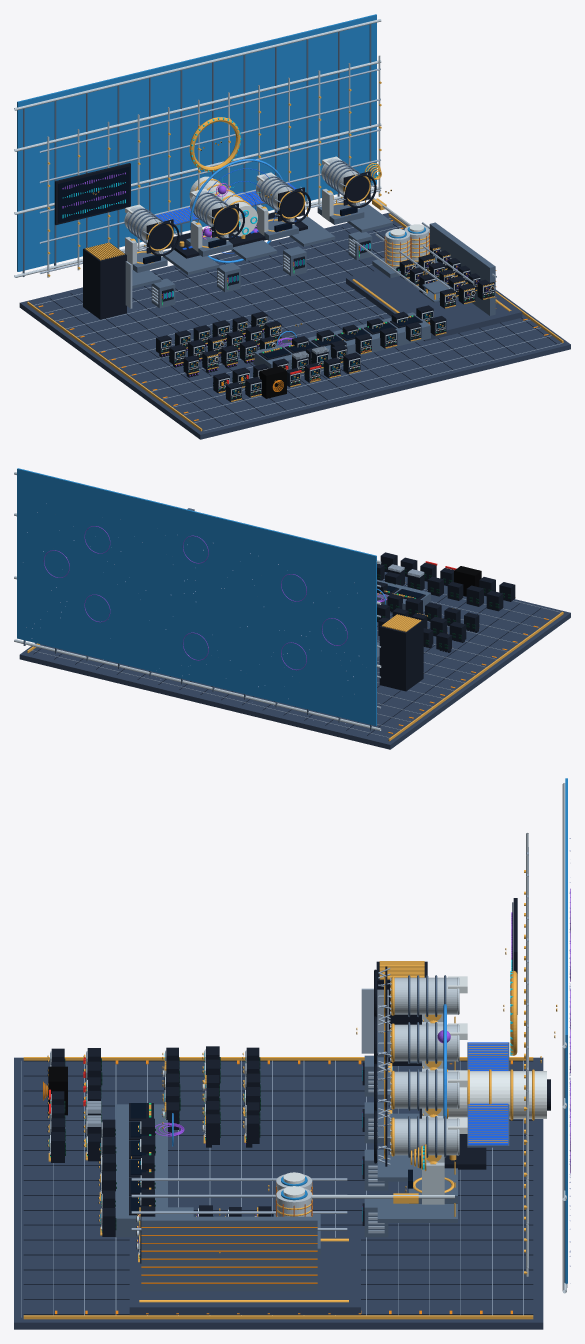
The model's file is Level91_Complete_ArtKit_Showcase.fbx.
The picture shows the model from 3 angles, top to bottom: view 1: azimuth 30°, elevation 25°; view 2: azimuth 150°, elevation 25°; view 3: azimuth 270°, elevation 25°; orthographic projection. The views are drawn at different scales.
Parts seen in each view (by area): view 1: L91_PanoramicDeepSpaceObservationDome, L91_CosmicNavigationQualificationDeck, L91_ClockTimingLaboratoryBase, L91_PhotonSafetyShieldEnclosure, L91_XRayObservatoryServicePlatform, L91_StellarSceneryStructuralFrame_Part_0001, L91_StellarSceneryStructuralFrame_Part_0000, L91_PulsarPhaseReferenceDisplay_Part_0001, L91_NavigationCommandWorkstation, L91_DeepSpaceMissionSafetyBarrier, L91_DetectorSunshadeArray, L91_PrimaryAtomicClockReference (+24 smaller); view 2: L91_PanoramicDeepSpaceObservationDome, L91_CosmicNavigationQualificationDeck, L91_PhotonSafetyShieldEnclosure, L91_DeepSpaceStarfieldVault, L91_NavigationCommandWorkstation, L91_DeepSpaceCommunicationsBlackoutSimul_Part_0000; view 3: L91_CosmicNavigationQualificationDeck, L91_DeepSpaceMissionSafetyBarrier, L91_ClockTimingLaboratoryBase, L91_NavigationCommandWorkstation, L91_XRayObservatoryServicePlatform, L91_Aurora1DeepSpaceSpacecraft_Part_0000, L91_PanoramicDeepSpaceObservationDome, L91_Aurora1DeepSpaceSpacecraft_Part_0006, L91_PhotonSafetyShieldEnclosure, L91_XRayPulsarTelescopeA_Part_0000, L91_XRayPulsarTelescopeC_Part_0000, L91_XRayPulsarTelescopeD_Part_0000 (+13 smaller).
Boxes of the visible parts, <box> form: L91_PanoramicDeepSpaceObservationDome: <box>14,14,381,277</box>; L91_CosmicNavigationQualificationDeck: <box>19,212,570,439</box>; L91_ClockTimingLaboratoryBase: <box>346,270,522,341</box>; L91_PhotonSafetyShieldEnclosure: <box>83,242,132,319</box>; L91_XRayObservatoryServicePlatform: <box>132,202,392,288</box>; L91_StellarSceneryStructuralFrame_Part_0001: <box>47,55,380,277</box>; L91_StellarSceneryStructuralFrame_Part_0000: <box>39,68,380,273</box>; L91_PulsarPhaseReferenceDisplay_Part_0001: <box>58,166,129,222</box>; L91_NavigationCommandWorkstation: <box>253,312,430,369</box>; L91_DeepSpaceMissionSafetyBarrier: <box>429,222,496,315</box>; L91_DetectorSunshadeArray: <box>143,171,376,255</box>; L91_PrimaryAtomicClockReference: <box>372,229,418,278</box>; L91_PanoramicDeepSpaceObservationDome: <box>14,468,381,730</box>; L91_CosmicNavigationQualificationDeck: <box>19,572,570,749</box>; L91_PhotonSafetyShieldEnclosure: <box>379,614,423,691</box>; L91_DeepSpaceStarfieldVault: <box>23,503,359,723</box>; L91_NavigationCommandWorkstation: <box>377,579,430,617</box>; L91_DeepSpaceCommunicationsBlackoutSimul_Part_0000: <box>454,566,481,596</box>; L91_CosmicNavigationQualificationDeck: <box>14,1057,543,1329</box>; L91_DeepSpaceMissionSafetyBarrier: <box>141,1216,317,1291</box>; L91_ClockTimingLaboratoryBase: <box>129,1237,360,1315</box>; L91_NavigationCommandWorkstation: <box>115,1103,167,1237</box>; L91_XRayObservatoryServicePlatform: <box>377,1031,457,1222</box>; L91_Aurora1DeepSpaceSpacecraft_Part_0000: <box>429,1071,546,1118</box>; L91_PanoramicDeepSpaceObservationDome: <box>562,778,567,1293</box>; L91_Aurora1DeepSpaceSpacecraft_Part_0006: <box>468,1042,508,1145</box>; L91_PhotonSafetyShieldEnclosure: <box>361,961,427,1065</box>; L91_XRayPulsarTelescopeA_Part_0000: <box>394,977,459,1014</box>; L91_XRayPulsarTelescopeC_Part_0000: <box>394,1071,459,1108</box>; L91_XRayPulsarTelescopeD_Part_0000: <box>394,1118,459,1155</box>.
Bounding box in the file's own units: 3200 × 1635 × 2842.
